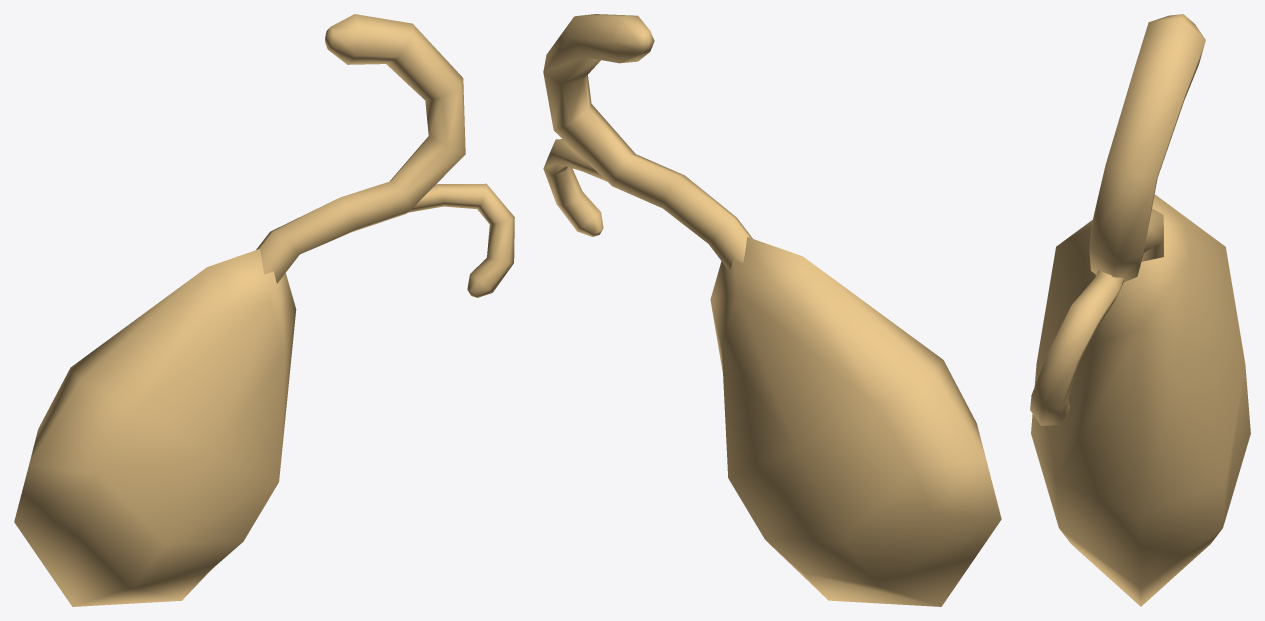
The model's file is starPlant_seed.fbx.
3 views of the same model, side by side, from view 1: azimuth 30°, elevation 25°; view 2: azimuth 150°, elevation 25°; view 3: azimuth 270°, elevation 25° (orthographic). The views are drawn at different scales.
Visible parts, largest first — view 1: seed_starBase, seed_starSprout1, seed_starSprout2; view 2: seed_starBase, seed_starSprout1, seed_starSprout2; view 3: seed_starBase, seed_starSprout1, seed_starSprout2.
Part boxes in pixels (box(x1,y1,x2,y2)): seed_starBase: box(14, 249, 296, 606); seed_starSprout1: box(256, 14, 465, 283); seed_starSprout2: box(408, 183, 514, 297); seed_starBase: box(710, 237, 1001, 606); seed_starSprout1: box(543, 14, 752, 271); seed_starSprout2: box(543, 139, 606, 236); seed_starBase: box(1031, 194, 1250, 606); seed_starSprout1: box(1089, 14, 1205, 282); seed_starSprout2: box(1030, 270, 1123, 425).
Bounding box in the file's own units: 12.53 × 13.5 × 3.8.
